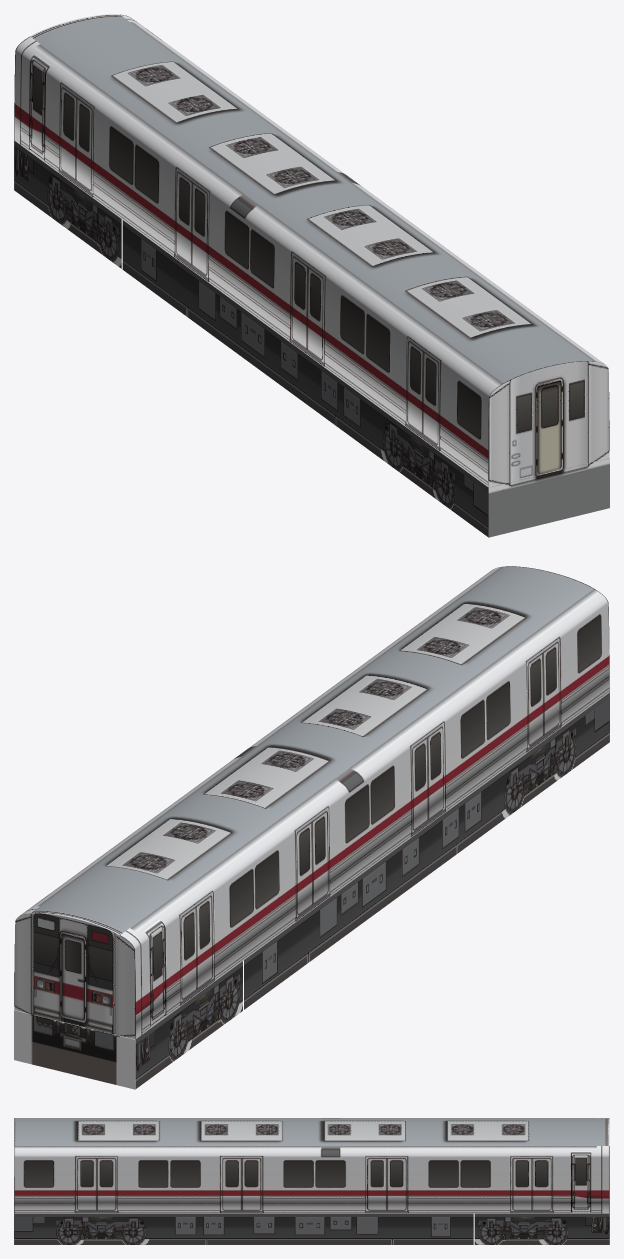
Rendered from car3.glb.
3 views of the same model, one above another, from view 1: azimuth 30°, elevation 25°; view 2: azimuth 150°, elevation 25°; view 3: azimuth 270°, elevation 25° (orthographic). The views are drawn at different scales.
Visible parts, largest first — view 1: tobu-10030-car3; view 2: tobu-10030-car3; view 3: tobu-10030-car3.
Boxes of the visible parts, box(x1,y1,x2,y2) form: tobu-10030-car3: box(14, 14, 609, 537); tobu-10030-car3: box(14, 566, 609, 1089); tobu-10030-car3: box(14, 1118, 609, 1244).
Bounding box in the file's own units: 2.88 × 3.54 × 19.53.
Materials: 9 (8 with a texture image).
